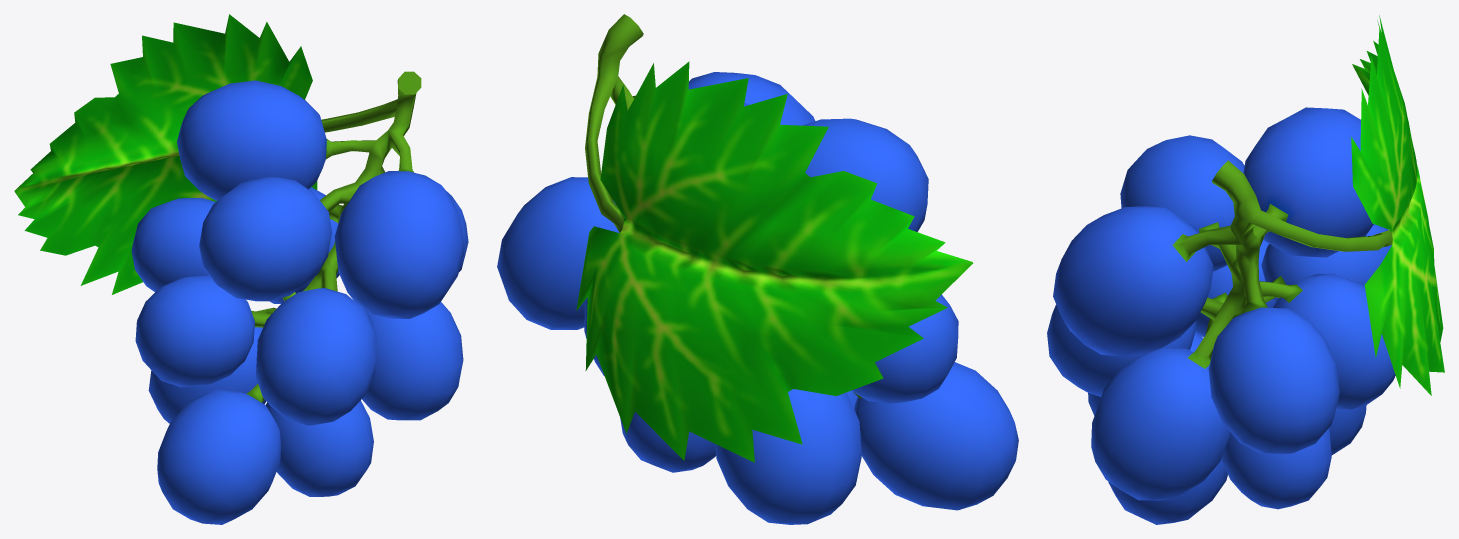
File: grape_final_Draco.glb
3 renders of one model, left to right at view 1: azimuth 30°, elevation 25°; view 2: azimuth 150°, elevation 25°; view 3: azimuth 270°, elevation 25°, orthographic. The views are drawn at different scales.
Parts seen in each view (by area): view 1: Grapes5; view 2: Grapes5; view 3: Grapes5.
Part boxes in pixels (<box>): Grapes5: <box>14,14,468,524</box>; Grapes5: <box>497,14,1018,524</box>; Grapes5: <box>1047,15,1444,524</box>.
Bounding box in the file's own units: 1.05 × 1 × 0.7761.
Materials: 1 (1 with a texture image).
